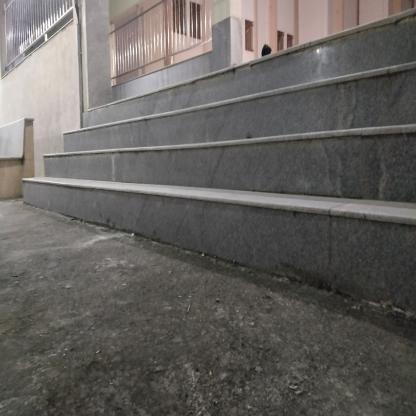stairs: (93, 92, 414, 255)
